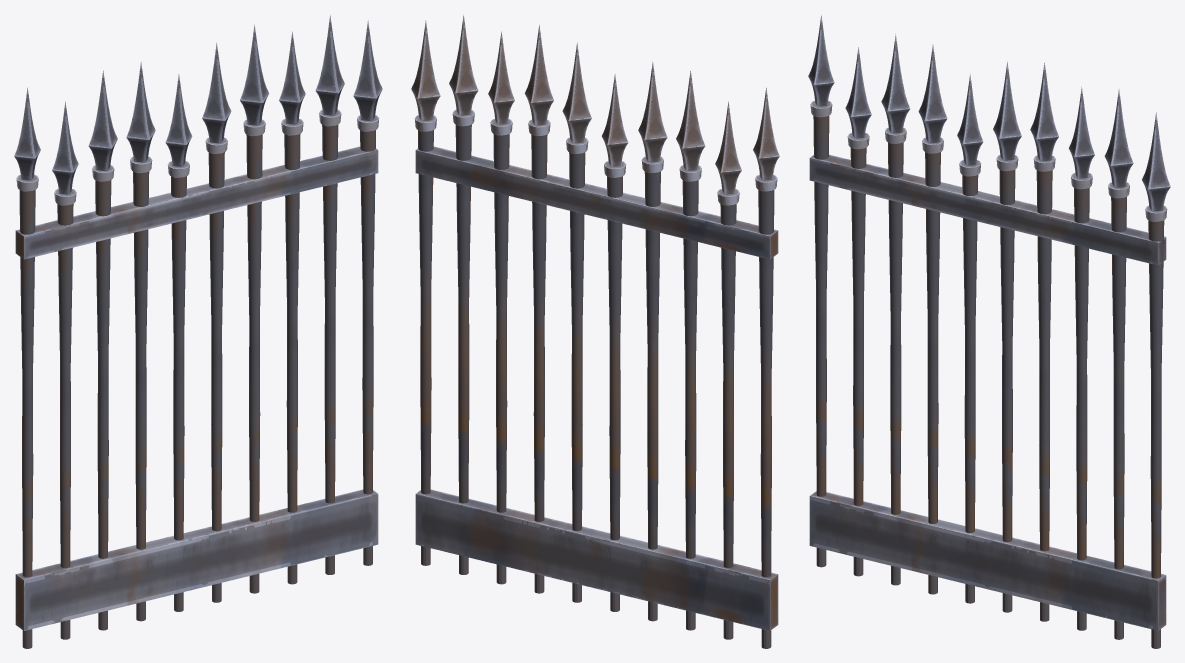
Rendered from Prop_MetalFence_Simple.gltf.
The picture shows the model from 3 angles, left to right: view 1: azimuth 30°, elevation 25°; view 2: azimuth 150°, elevation 25°; view 3: azimuth 330°, elevation 25°; orthographic projection.
Parts seen in each view (by area): view 1: Prop_MetalFence_Simple; view 2: Prop_MetalFence_Simple; view 3: Prop_MetalFence_Simple.
Boxes of the visible parts, left/top/right/bottom form: Prop_MetalFence_Simple: left=14, top=15, right=382, bottom=648; Prop_MetalFence_Simple: left=411, top=15, right=779, bottom=648; Prop_MetalFence_Simple: left=808, top=15, right=1170, bottom=648.
Bounding box in the file's own units: 1.95 × 2.87 × 0.1561.
Materials: 1 (1 with a texture image).
